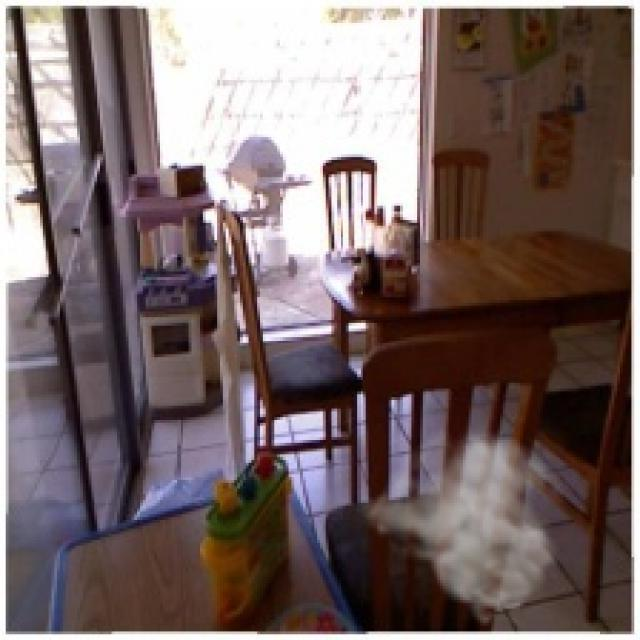Smoke: (352, 422, 577, 628)
